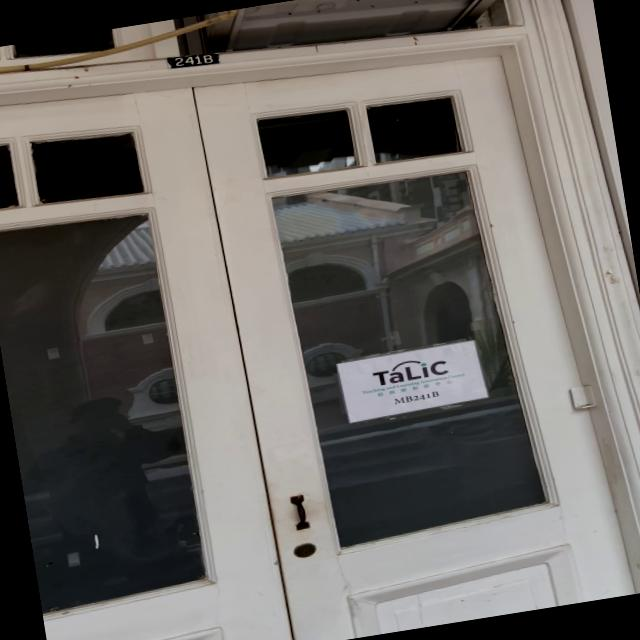room241b: (162, 47, 222, 75)
